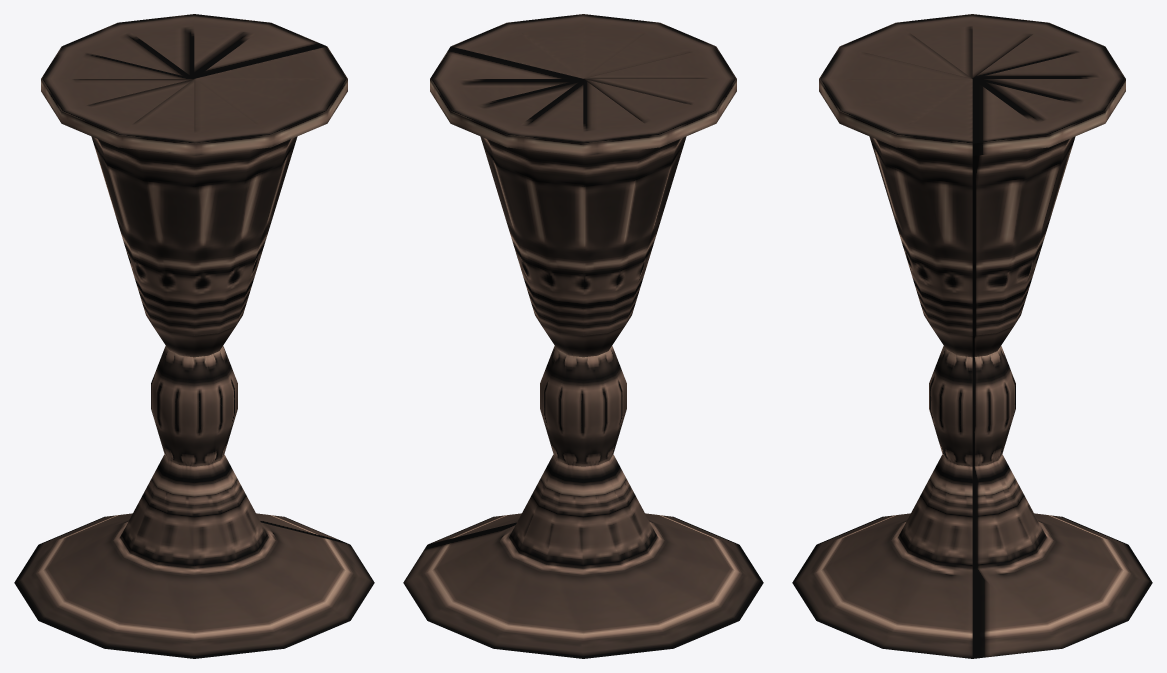
Rendered from Candle01_B02.FBX.
3 renders of one model, left to right at view 1: azimuth 30°, elevation 25°; view 2: azimuth 150°, elevation 25°; view 3: azimuth 270°, elevation 25°, orthographic.
Parts seen in each view (by area): view 1: Candle01_B02; view 2: Candle01_B02; view 3: Candle01_B02.
Part boxes in pixels (bbox=[...]): Candle01_B02: bbox=[14, 14, 374, 658]; Candle01_B02: bbox=[403, 14, 763, 658]; Candle01_B02: bbox=[792, 14, 1152, 658].
Size of the model in its own units: 16.13 by 16.13 by 24.87.
